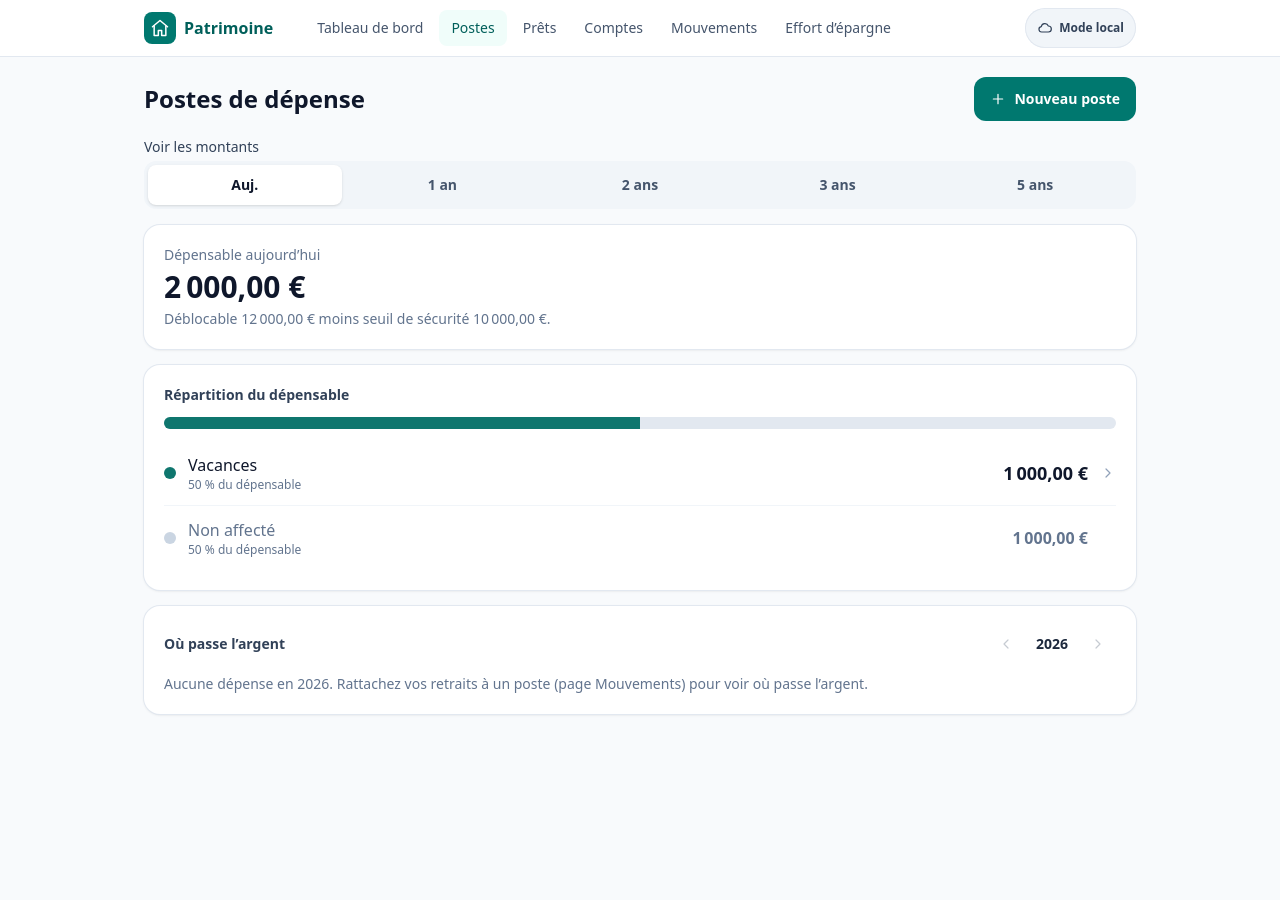
it: Postes dans le temps › montre le dépensable et le montant de chaque poste à l’échéance choisie
Expected: the text "Dépensable aujourd’hui" is shown, [164, 245, 320, 264]
Step 1. Click the radio button with aria-label "Dans 1 an" → [442, 184], box [428, 175, 457, 194]
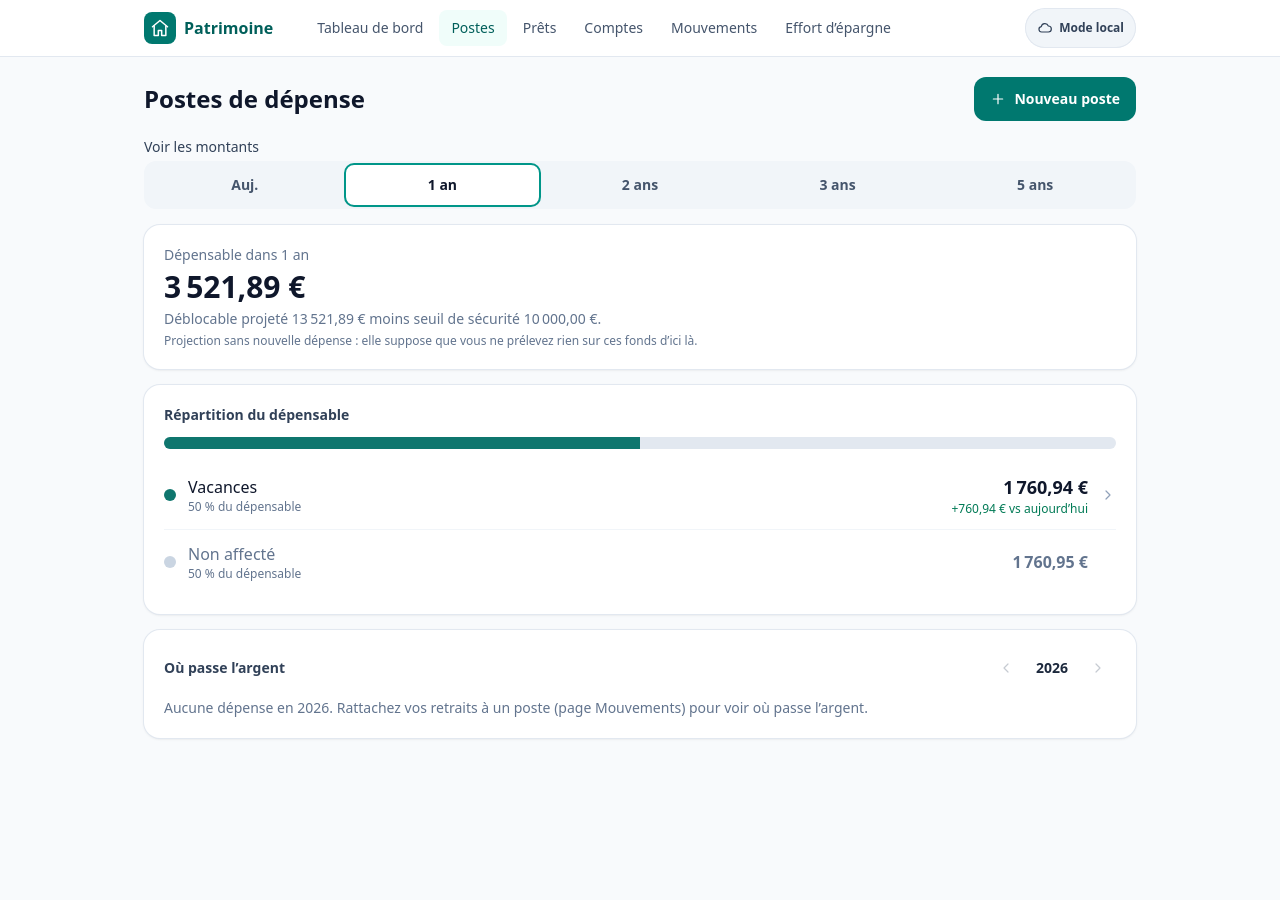
Expected: the text "Dépensable dans 1 an" is shown, [164, 245, 309, 264]
Expected: the text "Projection sans nouvelle dépense" is shown, [164, 332, 698, 349]
Expected: the text "+760,94 € vs aujourd’hui" is shown, [952, 501, 1088, 517]
Step 2. Click the radio button with aria-label "Aujourd’hui" → [245, 184], box [231, 175, 258, 194]
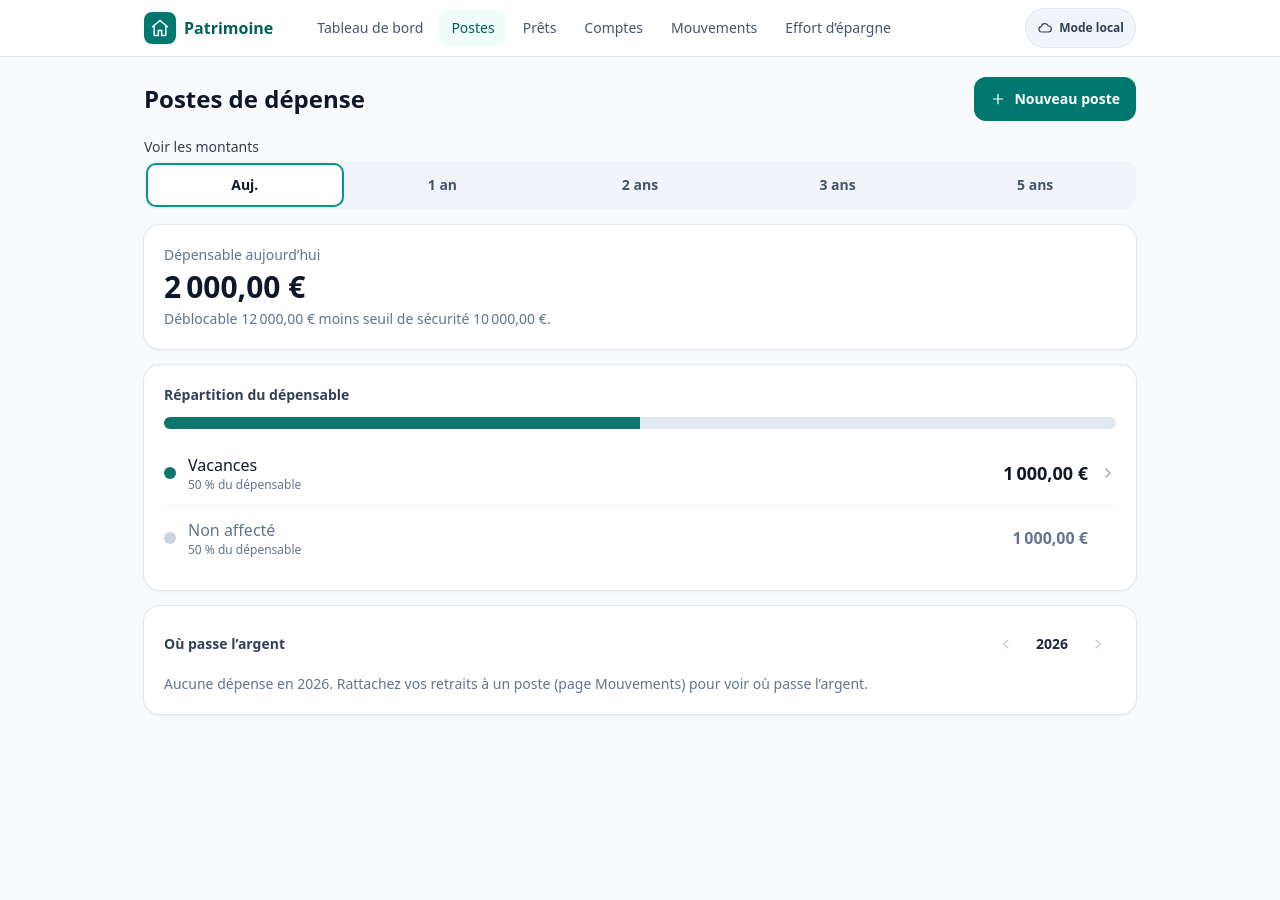
Expected: the text "Dépensable aujourd’hui" is shown, [164, 245, 320, 264]
Expected: the text "vs aujourd’hui" is gone
